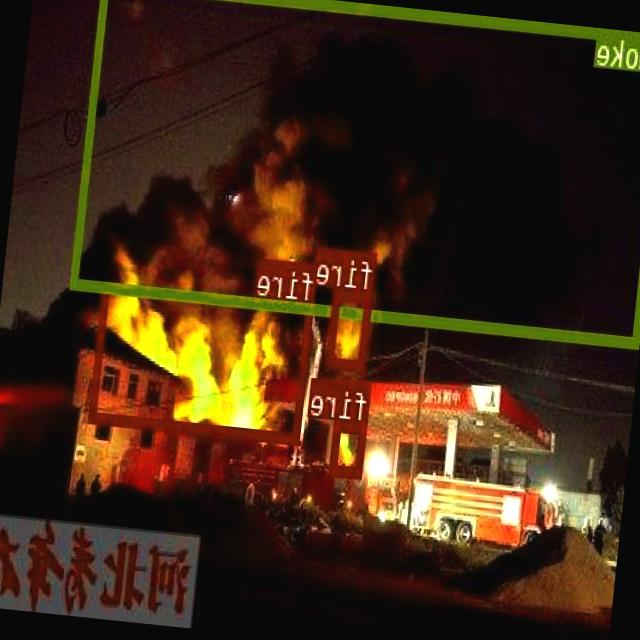fire: (90, 279, 316, 442), (327, 286, 374, 370), (331, 420, 368, 476)
smoke: (73, 0, 640, 344)
